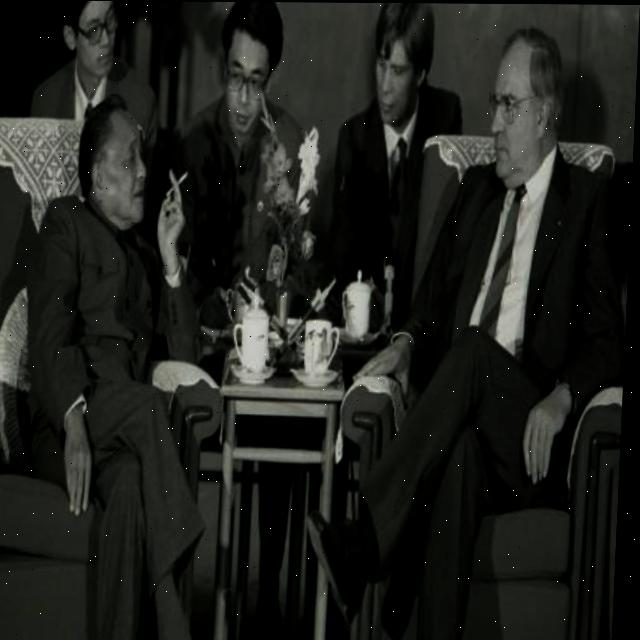cigarette: (167, 171, 190, 198)
